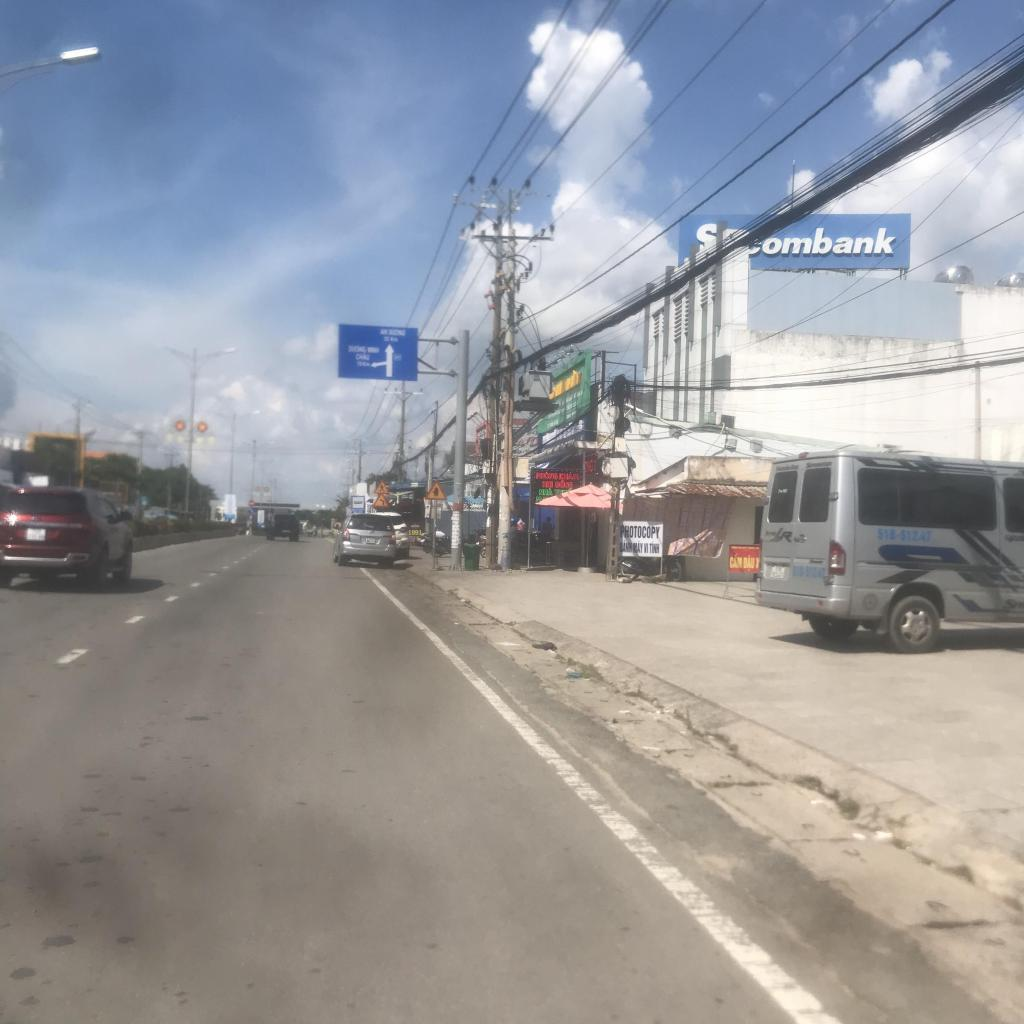cam_xe_di_nguoc_chieu: (248, 500, 255, 506)
cho_ngoat_nguy_hiem_ben_trai: (373, 494, 390, 507)
chu_y_nguoi_di_bo_cat_ngang: (374, 480, 390, 494)
giao_nhau_voi_duong_khong_uu_tien: (424, 480, 447, 500)
huong_phai_di_vuot_chuong_ngai_vat_phai: (248, 507, 255, 513)
khac: (336, 322, 419, 382), (352, 496, 365, 514)
